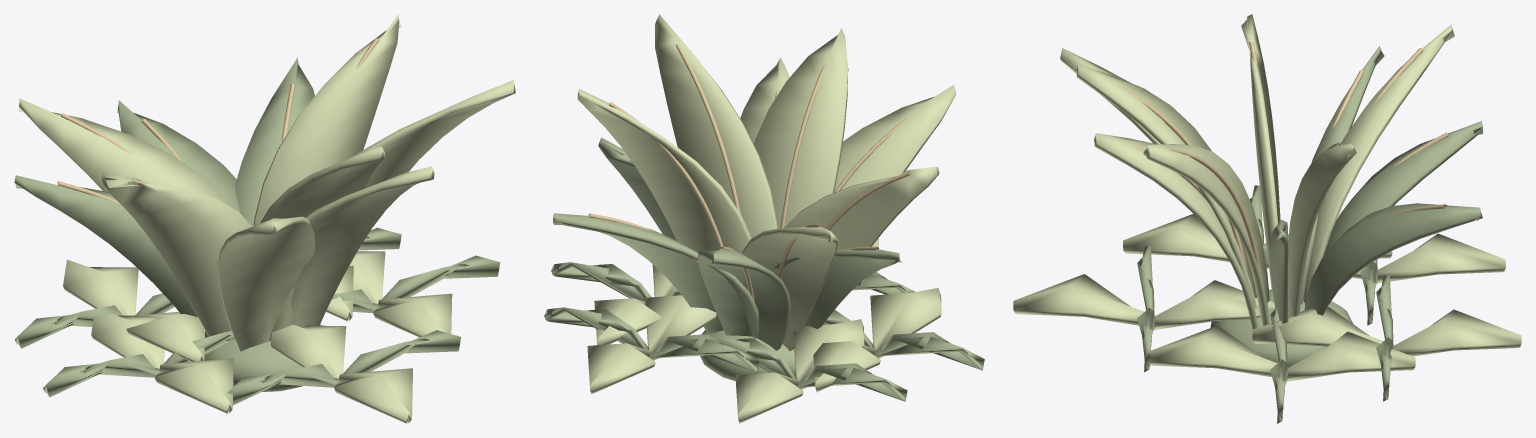
Rendered from bio_mist_leaf_20_far.glb.
3 views of the same model, side by side, from view 1: azimuth 30°, elevation 25°; view 2: azimuth 150°, elevation 25°; view 3: azimuth 270°, elevation 25° (orthographic). The views are drawn at different scales.
Visible parts, largest first — view 1: Cupped condensate leaf.008, Cupped condensate leaf.004, Cupped condensate leaf.007, Cupped condensate leaf.010, Cupped condensate leaf.001, Cupped condensate leaf.009, Low buttress leaf.009, Low buttress leaf.005, Low buttress leaf.017, Cupped condensate leaf.003, Cupped condensate leaf.002, Cupped condensate leaf.005 (+9 smaller); view 2: Cupped condensate leaf.002, Cupped condensate leaf.005, Cupped condensate leaf.008, Cupped condensate leaf.007, Cupped condensate leaf.004, Cupped condensate leaf.006, Cupped condensate leaf.003, Cupped condensate leaf.001, Low buttress leaf.013, Low buttress leaf.017, Low buttress leaf.005, Low buttress leaf.012 (+14 smaller); view 3: Low buttress leaf.001, Cupped condensate leaf.003, Low buttress leaf.009, Low buttress leaf.013, Cupped condensate leaf.001, Cupped condensate leaf.005, Cupped condensate leaf.006, Cupped condensate leaf.002, Cupped condensate leaf.010, Cupped condensate leaf.008, Cupped condensate leaf.004, Low buttress leaf.005 (+11 smaller).
Part boxes in pixels (x1,y1,x2,y2): Cupped condensate leaf.008: [253, 14, 401, 225]; Cupped condensate leaf.004: [101, 172, 251, 336]; Cupped condensate leaf.007: [218, 216, 315, 351]; Cupped condensate leaf.010: [291, 166, 434, 326]; Cupped condensate leaf.001: [19, 98, 233, 208]; Cupped condensate leaf.009: [14, 175, 208, 337]; Low buttress leaf.009: [270, 324, 412, 423]; Low buttress leaf.005: [63, 259, 205, 361]; Low buttress leaf.017: [91, 308, 233, 413]; Cupped condensate leaf.003: [235, 57, 314, 226]; Cupped condensate leaf.002: [260, 146, 385, 341]; Cupped condensate leaf.005: [355, 80, 515, 188]; Cupped condensate leaf.002: [754, 28, 848, 228]; Cupped condensate leaf.005: [655, 14, 777, 237]; Cupped condensate leaf.008: [577, 89, 751, 253]; Cupped condensate leaf.007: [834, 84, 956, 190]; Cupped condensate leaf.004: [784, 166, 939, 249]; Cupped condensate leaf.006: [698, 249, 790, 350]; Cupped condensate leaf.003: [553, 213, 758, 338]; Cupped condensate leaf.001: [742, 226, 838, 350]; Low buttress leaf.013: [587, 295, 716, 394]; Low buttress leaf.017: [813, 288, 941, 392]; Low buttress leaf.005: [735, 319, 864, 423]; Low buttress leaf.012: [544, 307, 759, 372]; Low buttress leaf.001: [1150, 325, 1415, 382]; Cupped condensate leaf.003: [1304, 203, 1482, 315]; Low buttress leaf.009: [1013, 274, 1274, 330]; Low buttress leaf.013: [1252, 306, 1521, 356]; Cupped condensate leaf.001: [1303, 25, 1454, 302]; Cupped condensate leaf.005: [1143, 144, 1269, 325]; Cupped condensate leaf.006: [1323, 121, 1483, 256]; Cupped condensate leaf.002: [1076, 64, 1253, 320]; Cupped condensate leaf.010: [1094, 133, 1258, 329]; Cupped condensate leaf.008: [1288, 144, 1356, 316]; Cupped condensate leaf.004: [1241, 14, 1280, 293]; Low buttress leaf.005: [1262, 233, 1505, 284].
Bounding box in the file's own units: 2.22 × 1.38 × 2.09.
